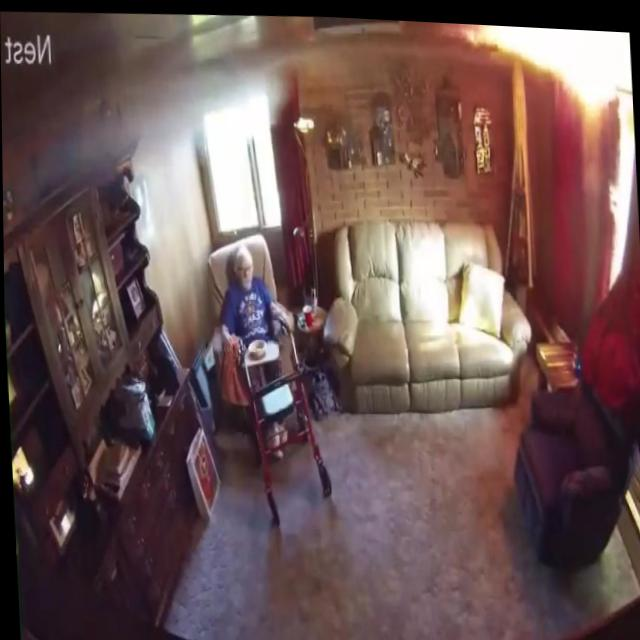fire: (466, 19, 627, 111)
